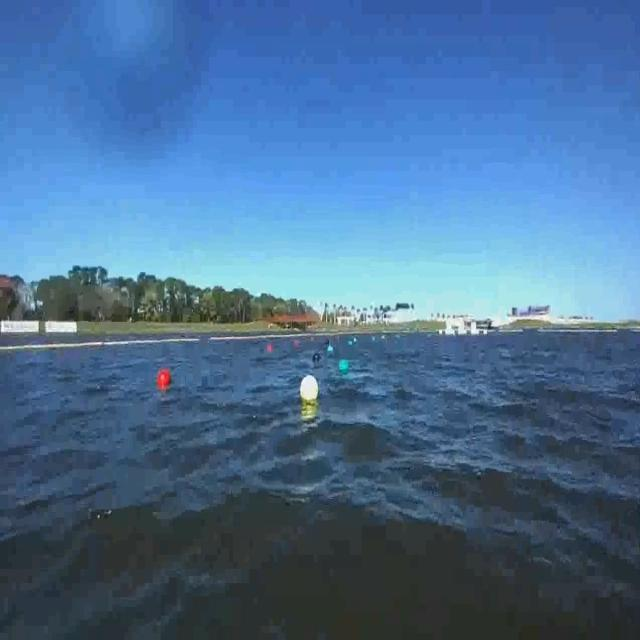black-buoy: (312, 351, 321, 366)
green-buoy: (340, 358, 350, 373)
red-buoy: (156, 368, 172, 388)
yellow-buoy: (299, 373, 317, 401)
